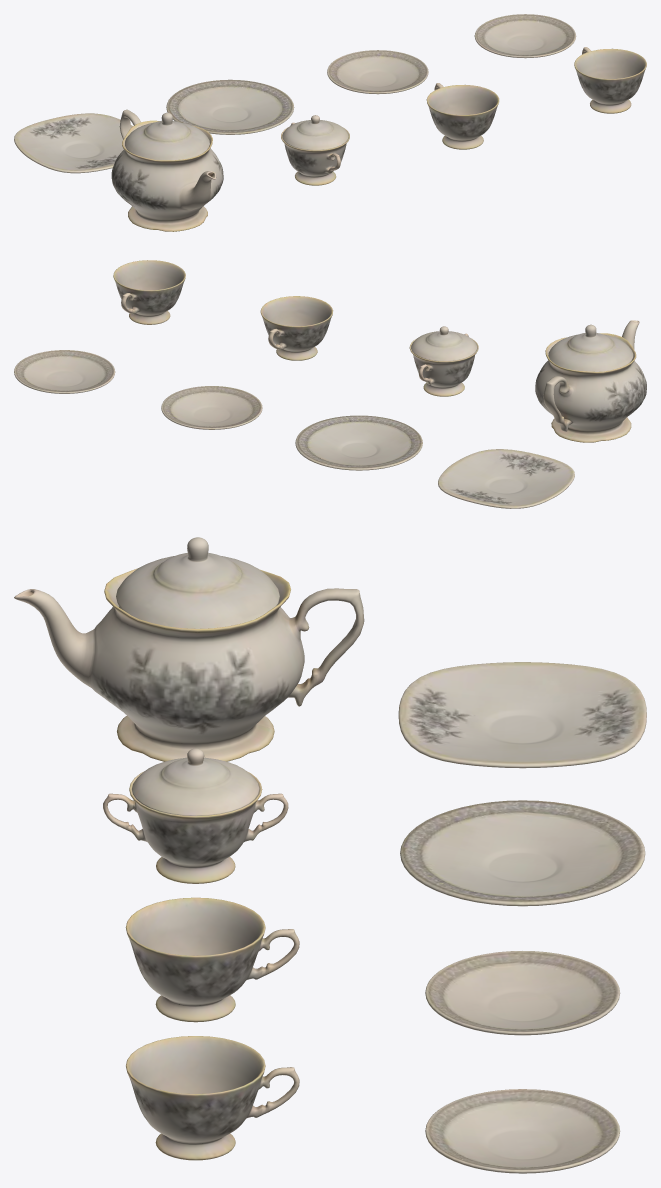
The model's file is tea_set_01.glb.
The picture shows the model from 3 angles, top to bottom: view 1: azimuth 30°, elevation 25°; view 2: azimuth 150°, elevation 25°; view 3: azimuth 270°, elevation 25°; orthographic projection. The views are drawn at different scales.
Parts seen in each view (by area): view 1: tea_set_01_teapot_01, tea_set_01_plate_large_circular_03, tea_set_01_plate_large_square_01, tea_set_01_cup_small_01, tea_set_01_cup_small_02, tea_set_01_saucer_circular_03, tea_set_01_saucer_circular_04, tea_set_01_teapot_01_lid, tea_set_01_sugar_cup_01, tea_set_01_sugar_cup_01_lid; view 2: tea_set_01_teapot_01, tea_set_01_plate_large_square_01, tea_set_01_plate_large_circular_03, tea_set_01_cup_small_01, tea_set_01_cup_small_02, tea_set_01_saucer_circular_04, tea_set_01_saucer_circular_03, tea_set_01_teapot_01_lid, tea_set_01_sugar_cup_01, tea_set_01_sugar_cup_01_lid; view 3: tea_set_01_teapot_01, tea_set_01_plate_large_square_01, tea_set_01_plate_large_circular_03, tea_set_01_cup_small_01, tea_set_01_cup_small_02, tea_set_01_saucer_circular_03, tea_set_01_saucer_circular_04, tea_set_01_teapot_01_lid, tea_set_01_sugar_cup_01, tea_set_01_sugar_cup_01_lid.
Part boxes in pixels (bbox=[...]): tea_set_01_teapot_01: bbox=[111, 109, 223, 231]; tea_set_01_plate_large_circular_03: bbox=[166, 79, 294, 134]; tea_set_01_plate_large_square_01: bbox=[14, 113, 133, 173]; tea_set_01_cup_small_01: bbox=[426, 83, 499, 149]; tea_set_01_cup_small_02: bbox=[574, 47, 646, 113]; tea_set_01_saucer_circular_03: bbox=[474, 14, 576, 58]; tea_set_01_saucer_circular_04: bbox=[327, 50, 428, 94]; tea_set_01_teapot_01_lid: bbox=[125, 112, 209, 160]; tea_set_01_sugar_cup_01: bbox=[281, 122, 349, 185]; tea_set_01_sugar_cup_01_lid: bbox=[282, 115, 348, 150]; tea_set_01_teapot_01: bbox=[535, 320, 646, 442]; tea_set_01_plate_large_square_01: bbox=[438, 449, 574, 508]; tea_set_01_plate_large_circular_03: bbox=[295, 415, 422, 470]; tea_set_01_cup_small_01: bbox=[260, 296, 333, 360]; tea_set_01_cup_small_02: bbox=[113, 260, 185, 324]; tea_set_01_saucer_circular_04: bbox=[161, 386, 262, 429]; tea_set_01_saucer_circular_03: bbox=[14, 350, 115, 393]; tea_set_01_teapot_01_lid: bbox=[548, 324, 633, 371]; tea_set_01_sugar_cup_01: bbox=[409, 333, 478, 396]; tea_set_01_sugar_cup_01_lid: bbox=[411, 326, 477, 361]; tea_set_01_teapot_01: bbox=[14, 568, 364, 761]; tea_set_01_plate_large_square_01: bbox=[398, 662, 646, 768]; tea_set_01_plate_large_circular_03: bbox=[400, 800, 645, 906]; tea_set_01_cup_small_01: bbox=[125, 897, 299, 1022]; tea_set_01_cup_small_02: bbox=[126, 1036, 299, 1160]; tea_set_01_saucer_circular_03: bbox=[425, 1089, 620, 1173]; tea_set_01_saucer_circular_04: bbox=[425, 951, 620, 1035]; tea_set_01_teapot_01_lid: bbox=[116, 537, 279, 628]; tea_set_01_sugar_cup_01: bbox=[103, 771, 288, 883]; tea_set_01_sugar_cup_01_lid: bbox=[131, 748, 259, 815].
Bounding box in the file's own units: 0.9185 × 0.165 × 0.4839.
1 material, 1 textured.
